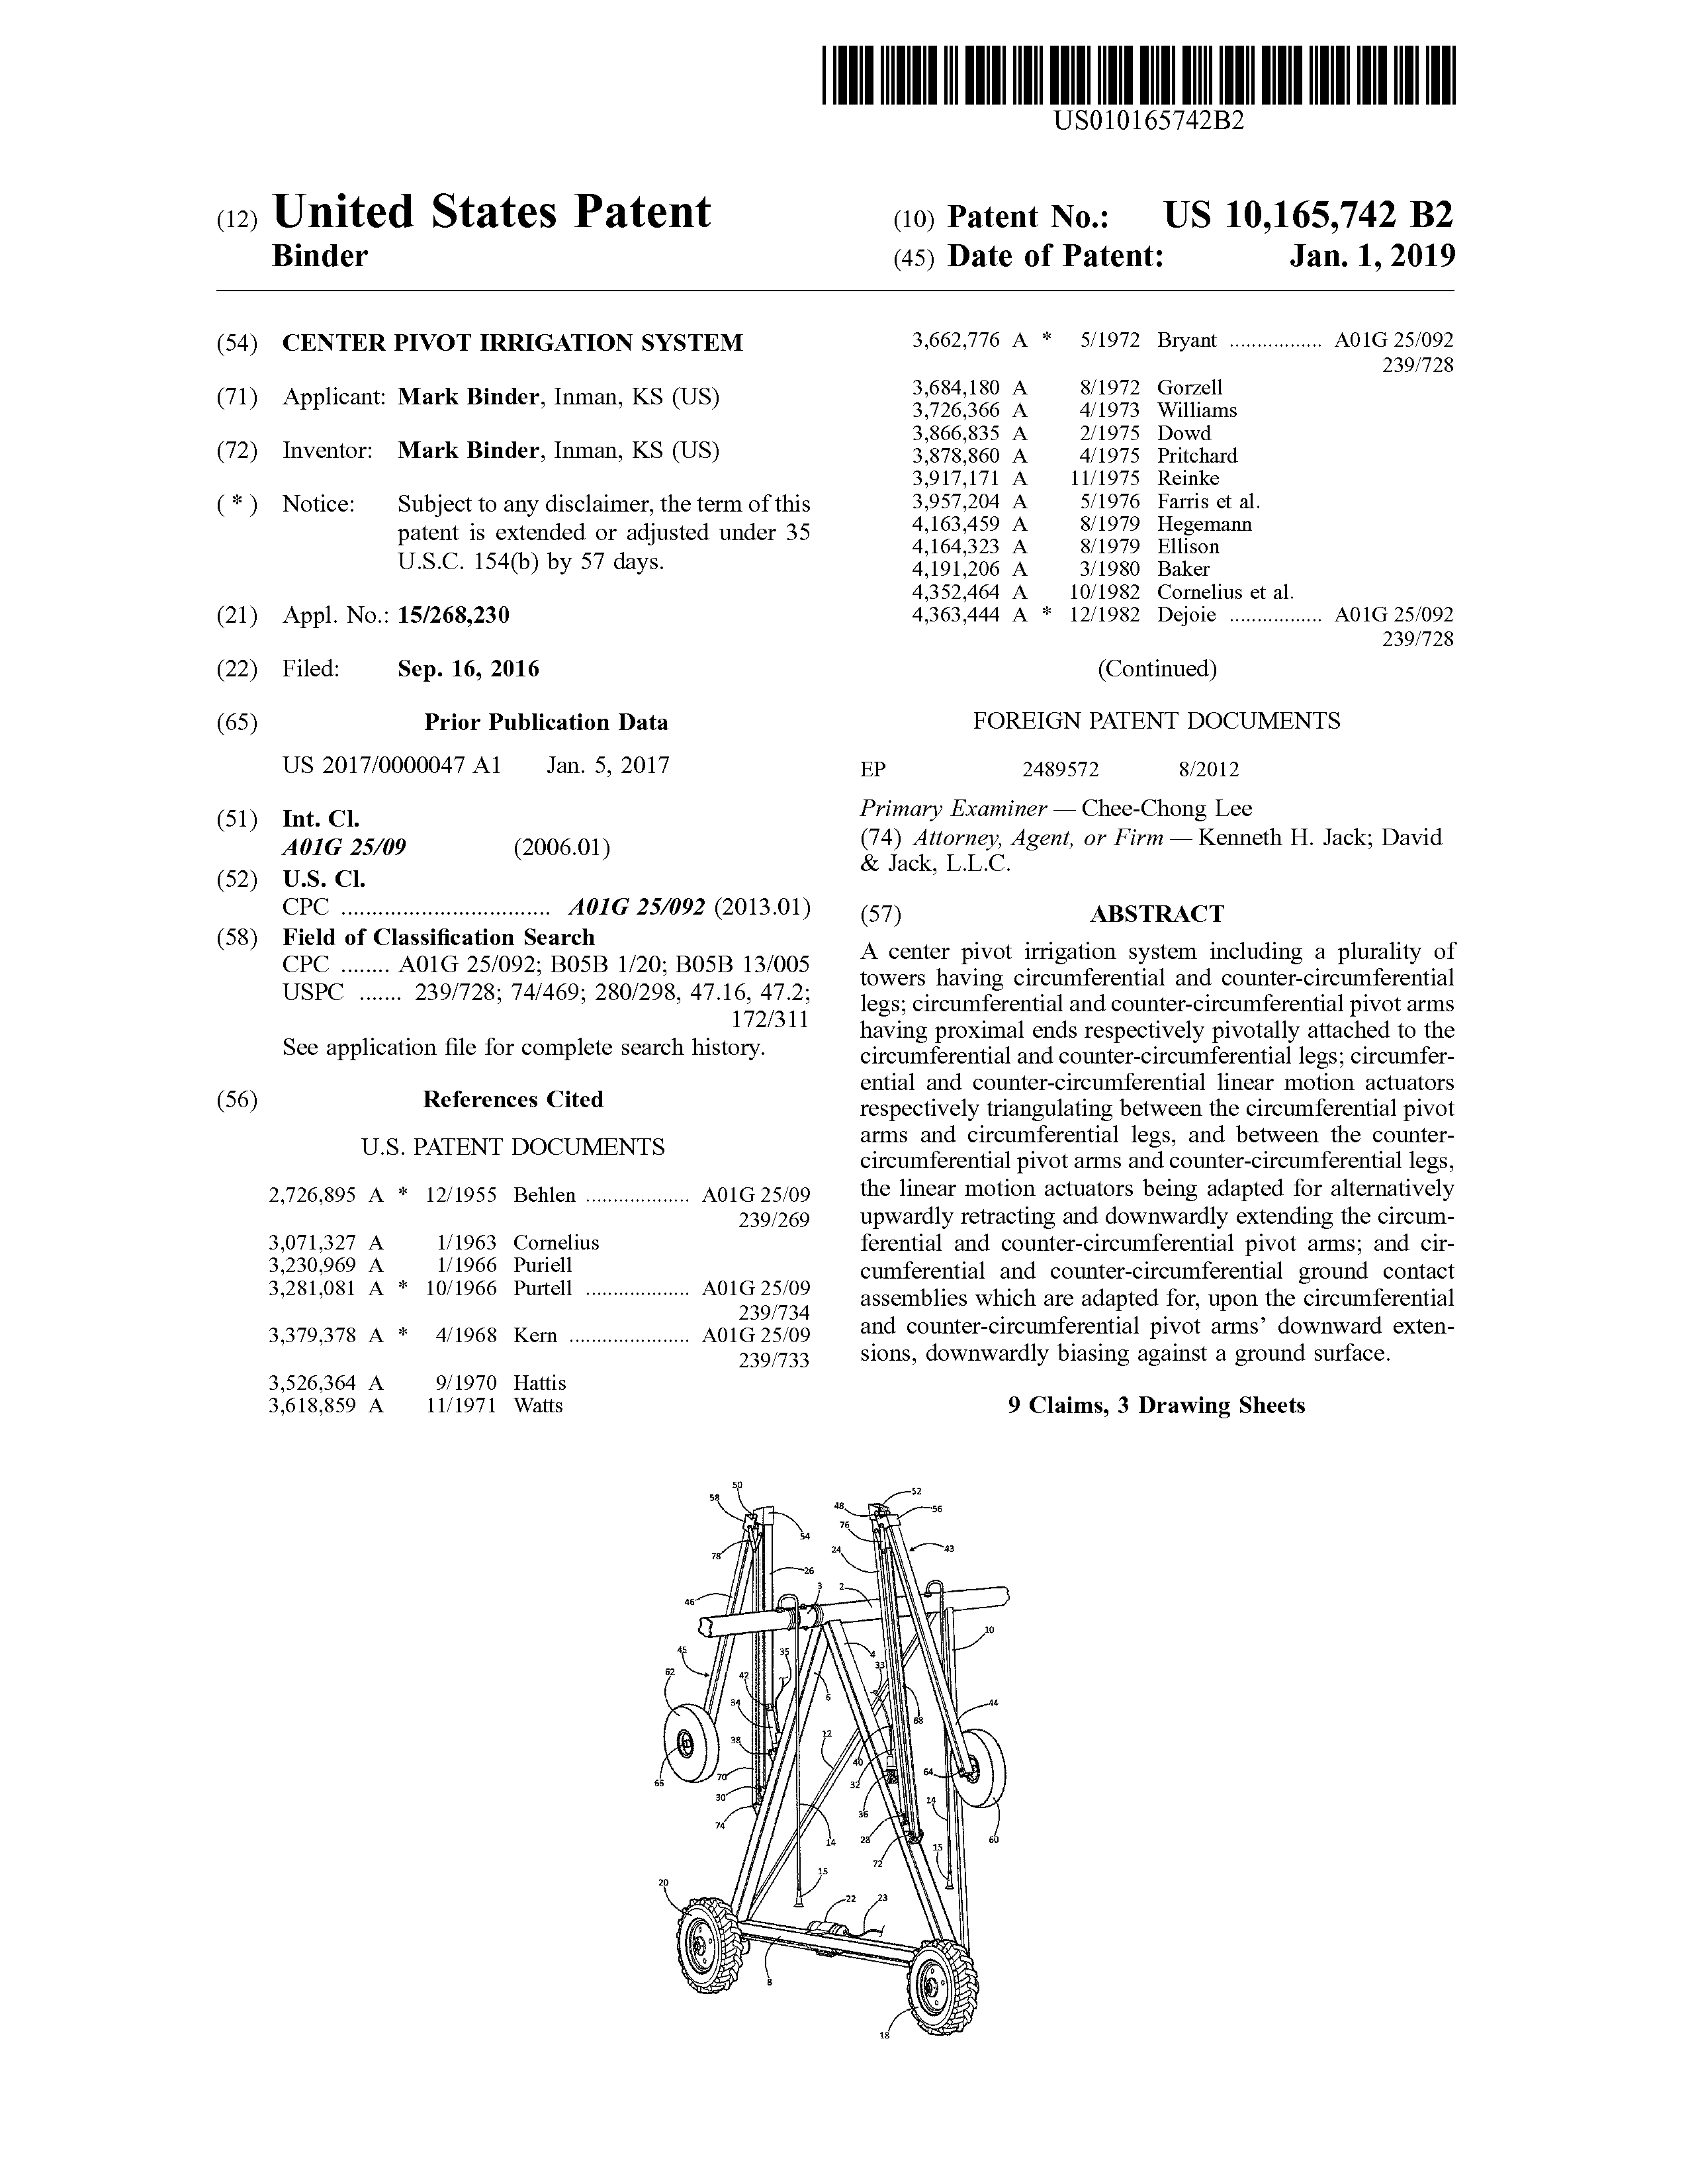patent image: (605, 1470, 1044, 2057)
